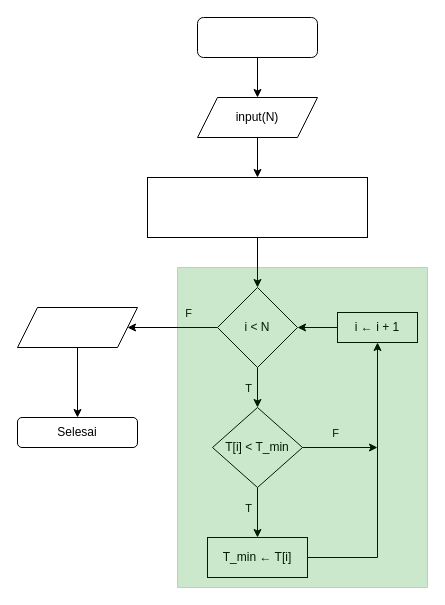
The diagram is 445 pixels wide and 605 high, and some of its shapes have lost their labels. The shapes that lost their labels are listed below. From the top down, each one's centre as x and y in pixels, then its label:
[257,37]: Mulai
[257,207]: T ← [input( T i ) for i in range(N)] T_min ← T[0] i ← 0
[77,327]: output(T_min)
